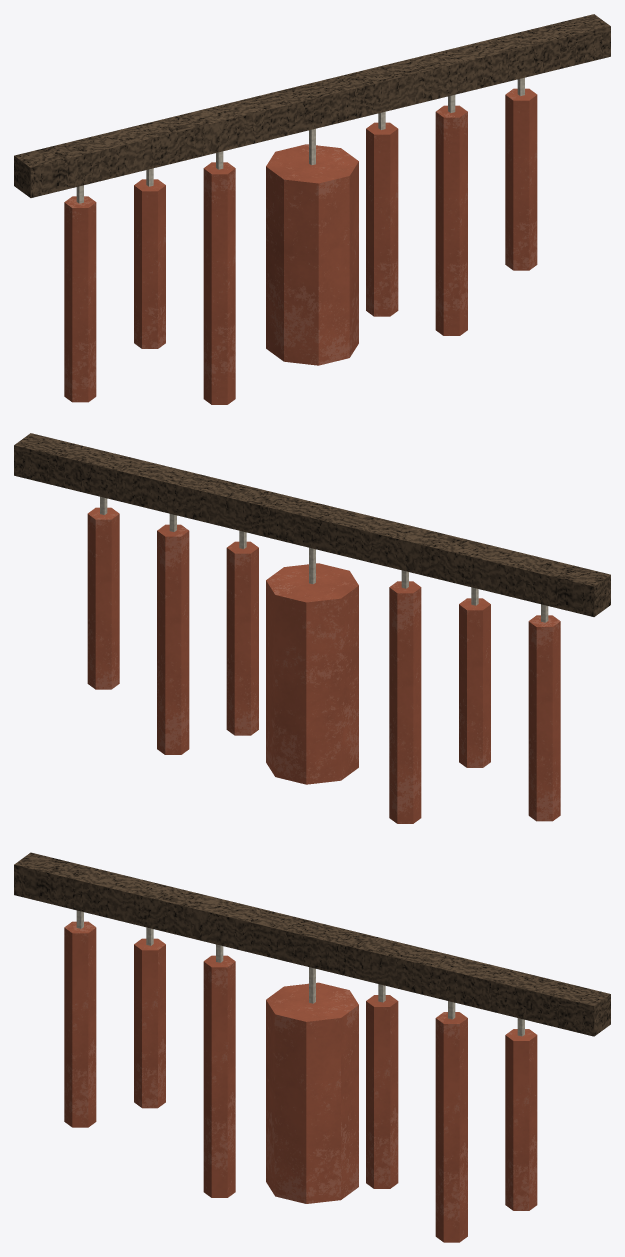
The model's file is sausages.glb.
3 views of the same model, one above another, from view 1: azimuth 30°, elevation 25°; view 2: azimuth 150°, elevation 25°; view 3: azimuth 330°, elevation 25° (orthographic).
Visible parts, largest first — view 1: sausages; view 2: sausages; view 3: sausages.
Boxes of the visible parts, x1,y1,x2,y2 form: sausages: (14,14,610,404); sausages: (14,433,610,823); sausages: (14,852,610,1242).
Bounding box in the file's own units: 1 × 0.47 × 0.1294.
Materials: 3 (3 with a texture image).
